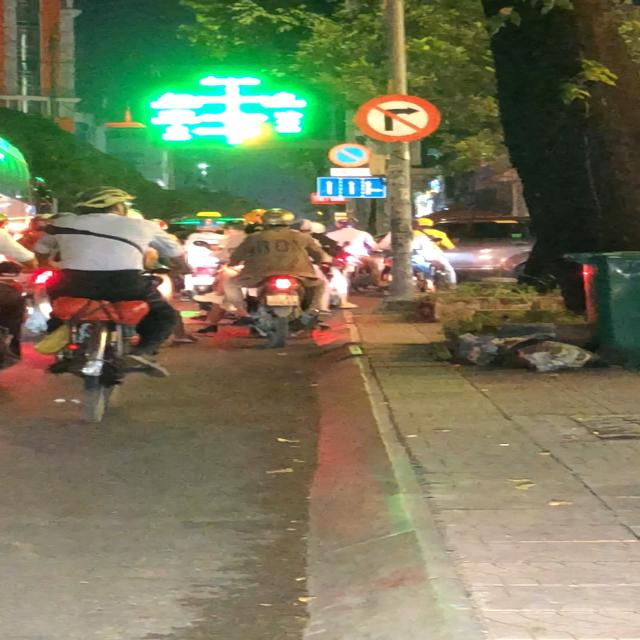Bien bao cam re phai: (352, 94, 442, 144)
